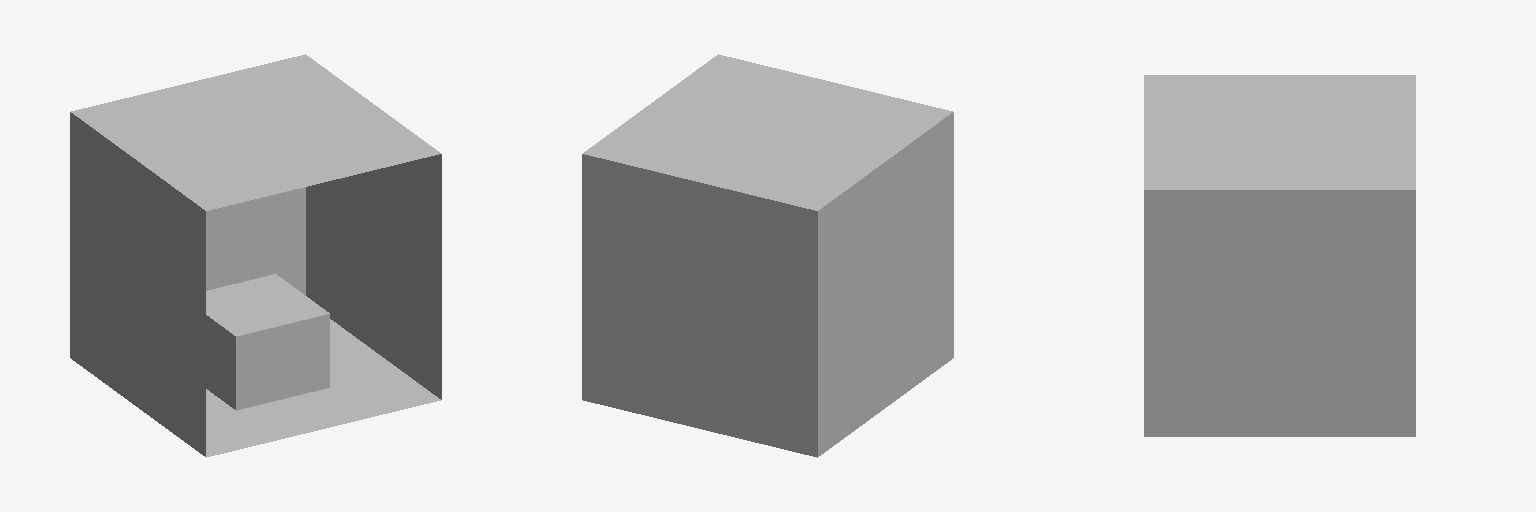
The model's file is cornel bakstenen.obj.
The picture shows the model from 3 angles: view 1: azimuth 30°, elevation 25°; view 2: azimuth 150°, elevation 25°; view 3: azimuth 270°, elevation 25°; orthographic projection.
Parts seen in each view (by area): view 1: Plane.001, Plane.002, Plane, Plane.003, Plane.004; view 2: Plane.004, Plane.001, Plane.002; view 3: Plane.003, Plane.002.
Part boxes in pixels (left/top/right/bottom): Plane.001: left=70, top=112, right=205, bottom=456; Plane.002: left=71, top=54, right=440, bottom=210; Plane: left=206, top=274, right=440, bottom=457; Plane.003: left=306, top=154, right=441, bottom=399; Plane.004: left=206, top=187, right=305, bottom=295; Plane.004: left=582, top=154, right=817, bottom=457; Plane.001: left=818, top=112, right=953, bottom=456; Plane.002: left=583, top=54, right=952, bottom=210; Plane.003: left=1144, top=190, right=1415, bottom=436; Plane.002: left=1144, top=75, right=1415, bottom=189.
Size of the model in its own units: 10 by 10 by 10.